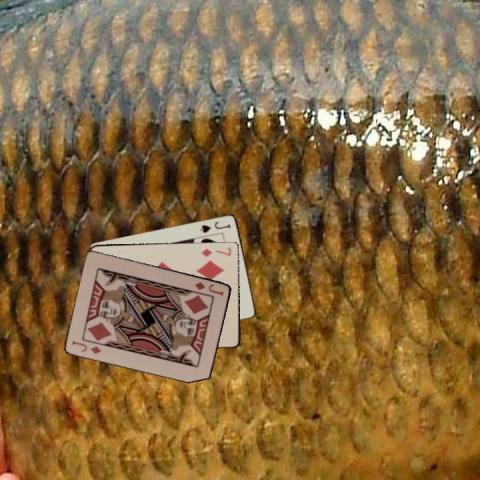7d: (198, 245, 232, 258)
Jd: (69, 337, 103, 355), (192, 279, 225, 297)
Js: (197, 218, 232, 234)
